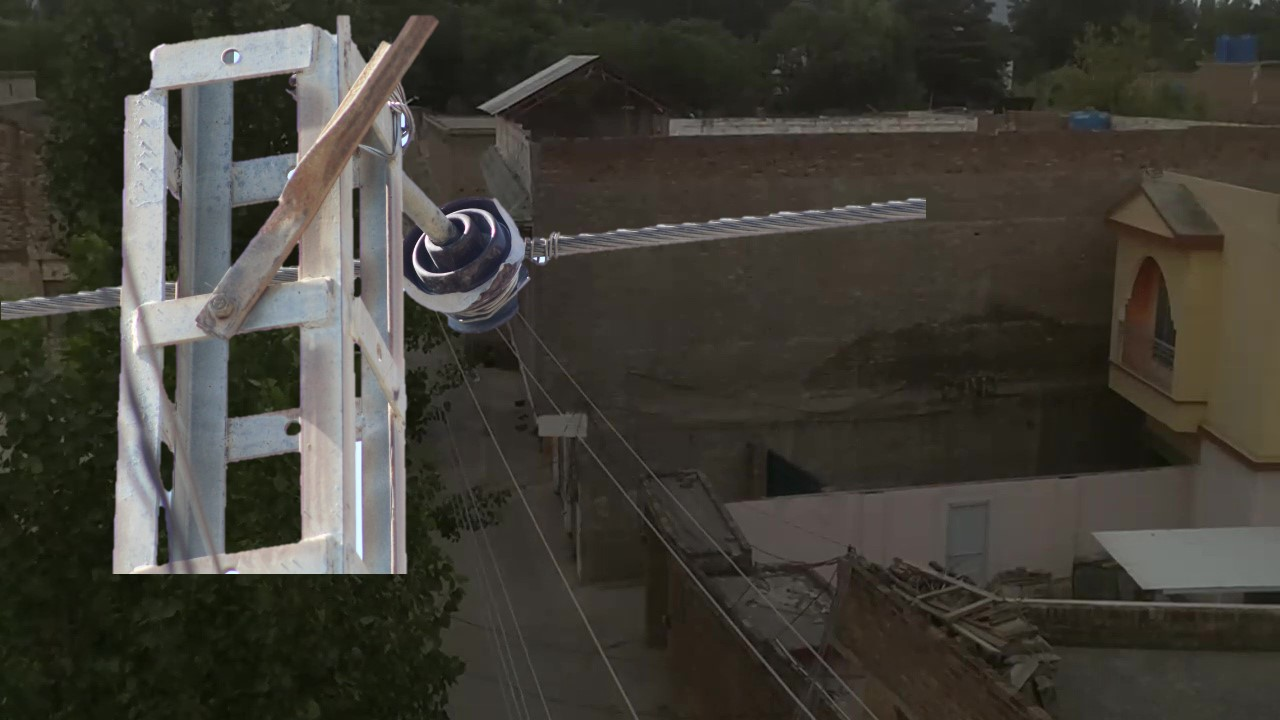defect_pin: (403, 187, 544, 345)
